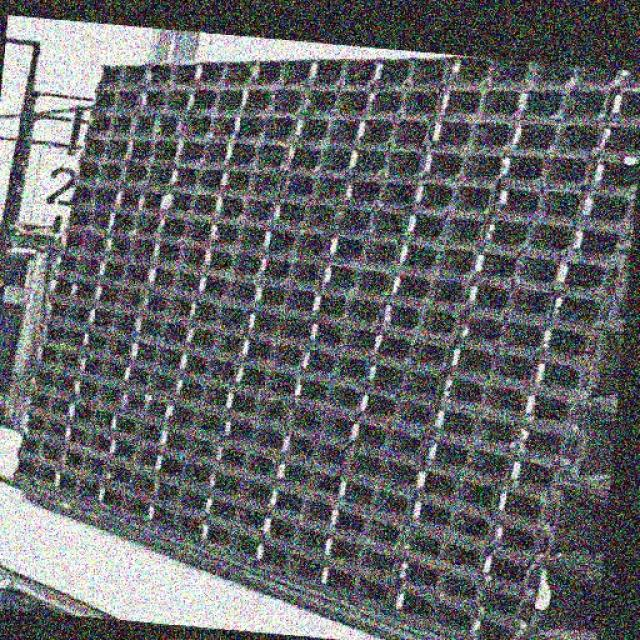igps: (320, 561, 395, 629), (397, 552, 482, 609), (410, 492, 493, 546), (402, 523, 482, 578), (415, 461, 498, 514), (254, 538, 321, 603), (393, 585, 471, 640), (506, 451, 589, 500), (430, 404, 521, 448), (347, 419, 427, 468), (426, 436, 511, 482), (467, 279, 555, 322), (439, 372, 525, 416), (449, 343, 536, 386), (342, 449, 418, 497), (481, 216, 572, 256), (458, 311, 542, 354), (513, 422, 593, 466), (495, 486, 571, 532), (499, 154, 596, 190), (474, 580, 546, 628), (324, 533, 399, 579), (522, 390, 600, 434), (366, 360, 443, 404), (509, 118, 598, 156), (530, 358, 605, 403), (518, 86, 609, 123), (372, 329, 450, 372), (336, 476, 412, 520), (479, 549, 550, 595), (329, 505, 403, 549), (198, 519, 256, 575), (406, 209, 486, 249), (358, 389, 432, 432), (495, 185, 581, 221), (260, 511, 326, 557), (370, 53, 452, 90), (474, 249, 556, 286), (551, 258, 633, 295), (144, 501, 202, 553), (382, 300, 460, 338), (466, 600, 540, 640), (97, 480, 148, 538), (398, 240, 475, 278), (492, 520, 560, 563), (265, 485, 331, 529), (449, 53, 534, 87), (539, 323, 615, 361), (529, 57, 619, 89), (413, 181, 497, 215), (421, 148, 500, 184), (293, 374, 360, 416), (439, 85, 519, 120), (282, 430, 348, 472), (391, 274, 467, 310), (431, 116, 511, 150), (550, 294, 630, 328), (311, 291, 383, 328), (222, 388, 292, 426), (320, 262, 393, 298), (201, 493, 262, 536), (206, 468, 268, 510), (286, 401, 351, 441), (275, 459, 338, 500), (335, 206, 406, 242), (329, 233, 400, 269), (342, 176, 414, 211), (299, 348, 369, 384), (364, 88, 440, 120), (357, 118, 433, 150), (347, 146, 424, 177), (307, 56, 375, 91), (308, 319, 376, 354), (239, 82, 303, 119), (214, 442, 276, 480), (8, 451, 55, 501), (222, 416, 283, 454), (188, 297, 248, 335), (153, 450, 210, 490), (261, 227, 330, 260), (286, 142, 351, 177), (157, 424, 216, 462), (246, 308, 310, 342), (103, 456, 152, 500), (207, 215, 265, 252), (54, 467, 100, 513), (232, 359, 296, 392), (163, 400, 224, 434), (151, 475, 205, 513), (12, 429, 62, 470), (272, 198, 336, 230), (258, 255, 322, 287), (282, 171, 344, 204), (301, 86, 369, 116), (579, 191, 639, 225), (176, 351, 234, 386), (24, 340, 80, 376), (293, 115, 358, 146), (20, 363, 72, 401), (222, 140, 286, 170), (214, 194, 274, 226), (252, 282, 312, 314), (240, 334, 300, 366), (216, 170, 282, 199), (196, 272, 255, 304), (202, 245, 259, 278), (570, 228, 637, 256), (16, 409, 64, 448), (590, 154, 639, 192), (30, 320, 83, 354), (18, 388, 68, 424), (231, 115, 293, 144), (184, 325, 242, 355), (91, 280, 142, 314), (146, 260, 200, 292), (97, 257, 149, 290), (139, 287, 191, 320), (85, 303, 134, 338), (54, 226, 104, 260), (44, 270, 94, 304), (133, 312, 186, 344), (156, 213, 212, 243), (248, 59, 308, 87), (145, 60, 195, 93), (93, 60, 146, 91), (73, 132, 126, 163), (49, 248, 100, 280), (160, 188, 216, 217), (151, 239, 205, 269), (123, 362, 175, 393), (595, 122, 639, 158), (129, 338, 180, 369), (109, 436, 154, 471), (193, 59, 249, 87), (186, 85, 242, 113), (127, 111, 181, 140), (103, 233, 153, 264), (173, 376, 226, 405), (110, 414, 158, 446), (124, 138, 178, 166), (73, 375, 120, 407), (63, 422, 110, 454), (80, 330, 130, 360), (118, 160, 171, 188), (167, 163, 220, 191), (182, 112, 234, 140), (60, 446, 104, 479), (91, 84, 139, 114), (173, 137, 226, 164), (107, 210, 158, 238), (62, 201, 108, 232), (40, 297, 86, 327), (78, 352, 124, 382), (120, 391, 164, 422), (70, 163, 120, 190), (65, 185, 115, 211), (112, 185, 162, 211), (139, 88, 188, 114), (66, 399, 111, 426), (82, 113, 130, 138), (606, 88, 640, 122), (608, 61, 640, 90)
